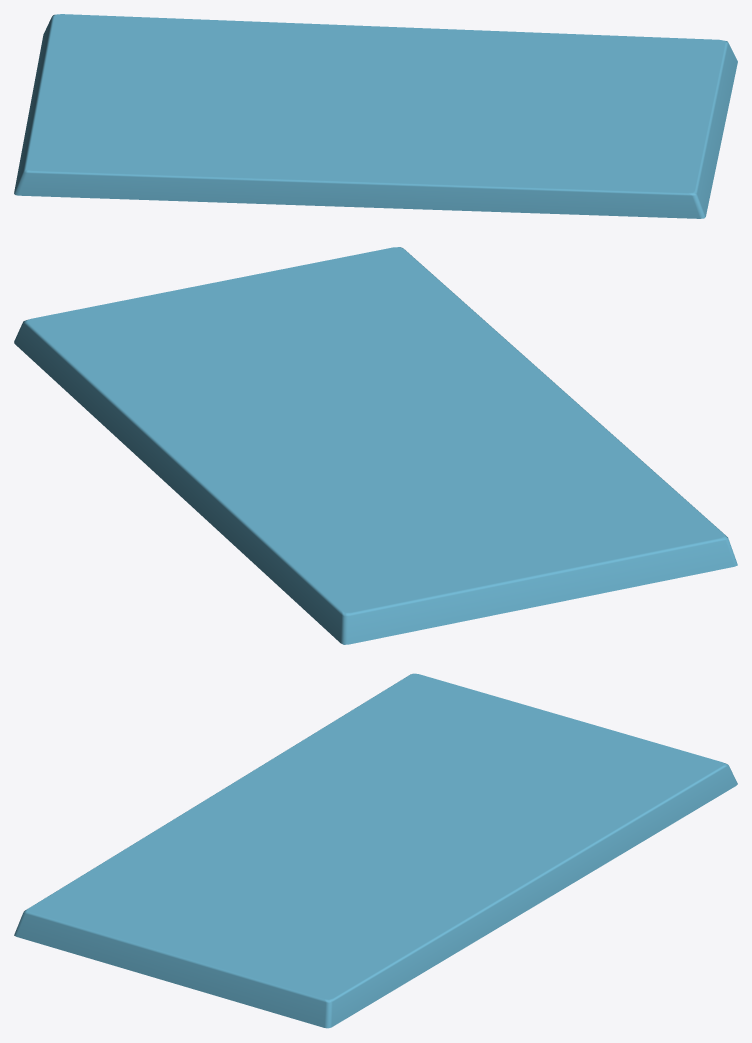
File: HalloweenRoomA_Carpet.fbx
3 renders of one model, top to bottom at view 1: azimuth 30°, elevation 25°; view 2: azimuth 150°, elevation 25°; view 3: azimuth 270°, elevation 25°, orthographic. The views are drawn at different scales.
Parts seen in each view (by area): view 1: HalloweenRoomA_Carpet; view 2: HalloweenRoomA_Carpet; view 3: HalloweenRoomA_Carpet.
Boxes of the visible parts, x1,y1,x2,y2 form: HalloweenRoomA_Carpet: (14, 14, 737, 218); HalloweenRoomA_Carpet: (14, 247, 737, 644); HalloweenRoomA_Carpet: (14, 673, 737, 1028).
Bounding box in the file's own units: 419 × 13.17 × 379.
